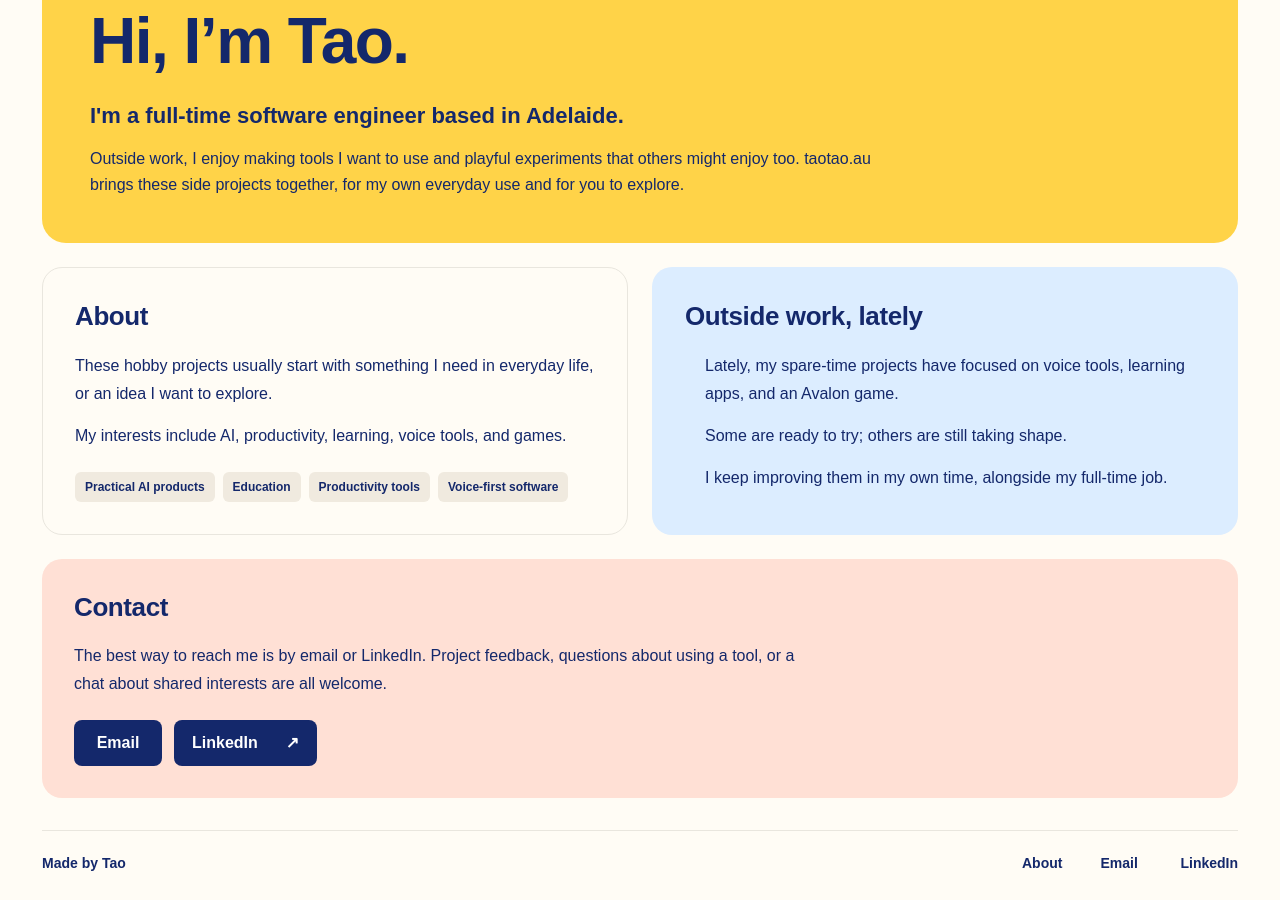
Test: Email contact › uses a disclosure instead of mailto across both pages in en
(page scrolled)
Check: the button "Email" below "Contact" is shown, box [86,720,150,766]
Click the button "Email" in the row of "Made by Tao": (1121, 864) [1100,853,1142,874]
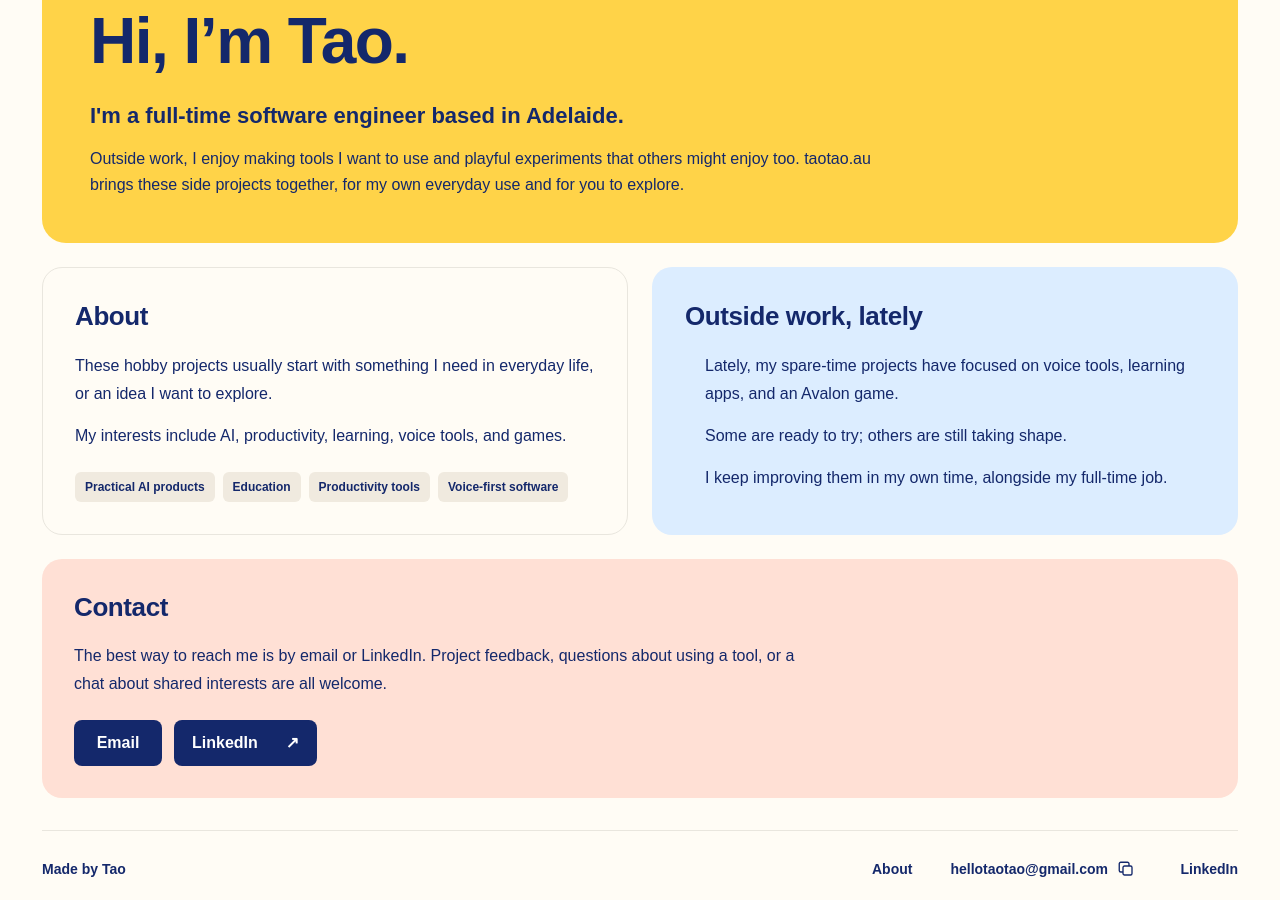
Check: the text "hellotaotao@gmail.com" is shown, box [950,861,1108,877]
